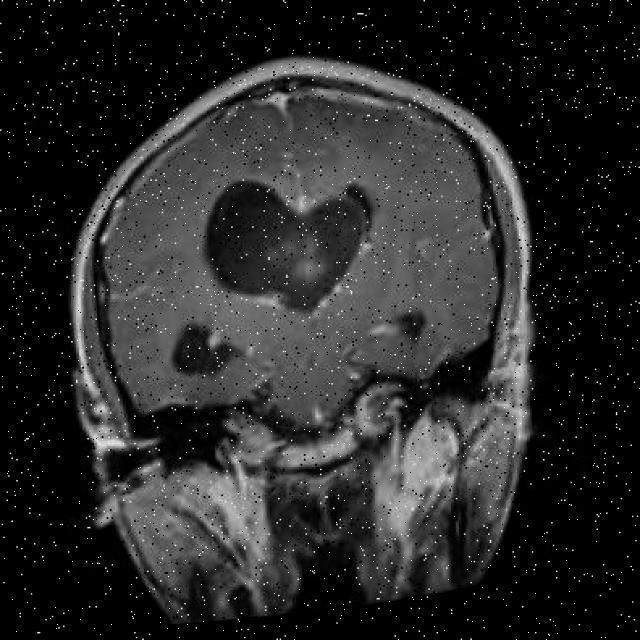EMCI: (248, 186, 390, 334)
